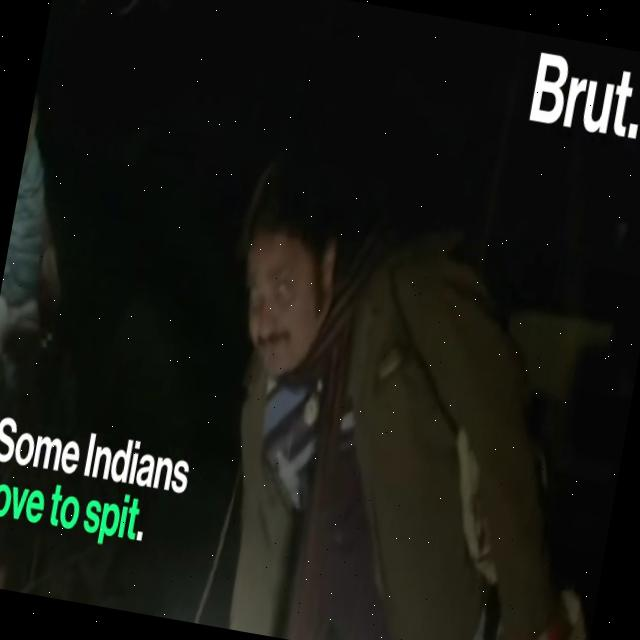spit: (168, 206, 329, 624)
